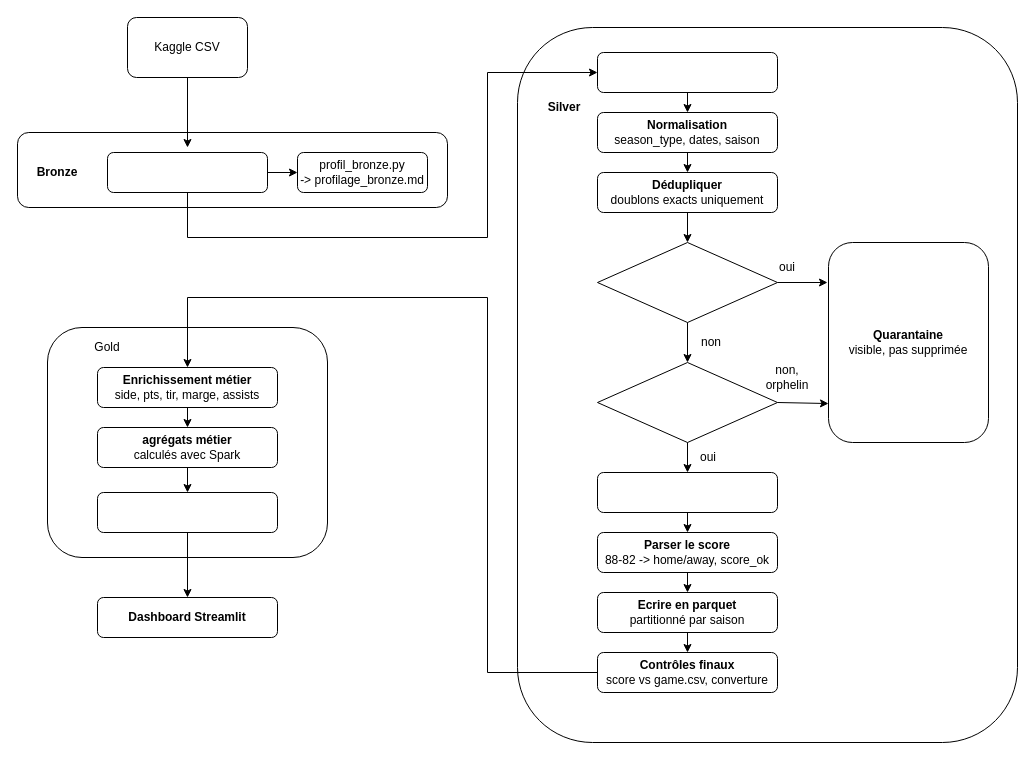
Some shapes in this 1035 by 760 pixel diagram are drawn without their labels. The centre of each missing label's shape, as x and y in pixels:
"/data/archive/csv/ 16 CSV bruts (~2.26 Go)" belongs at point (187, 172).
"Clé encore dupliquées ?" belongs at point (687, 282).
"data/gold/ + MongoDB" belongs at point (187, 512).
"Parser l'horloge M:SS 6> secondes, clock_ok" belongs at point (687, 492).
"Rattaché à un match ?" belongs at point (687, 402).
"Schéma explicite ids en string" belongs at point (687, 72).
